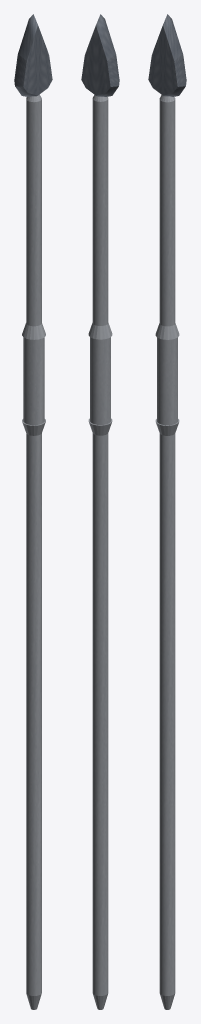
Rendered from Spear.FBX.
3 renders of one model, left to right at view 1: azimuth 30°, elevation 25°; view 2: azimuth 150°, elevation 25°; view 3: azimuth 330°, elevation 25°, orthographic.
Parts seen in each view (by area): view 1: Spear; view 2: Spear; view 3: Spear.
Part boxes in pixels (left/top/right/bottom): Spear: left=14, top=14, right=52, bottom=1009; Spear: left=81, top=14, right=119, bottom=1009; Spear: left=148, top=14, right=186, bottom=1009.
Bounding box in the file's own units: 6.79 × 174 × 3.77.
Materials: 2 (2 with a texture image).
